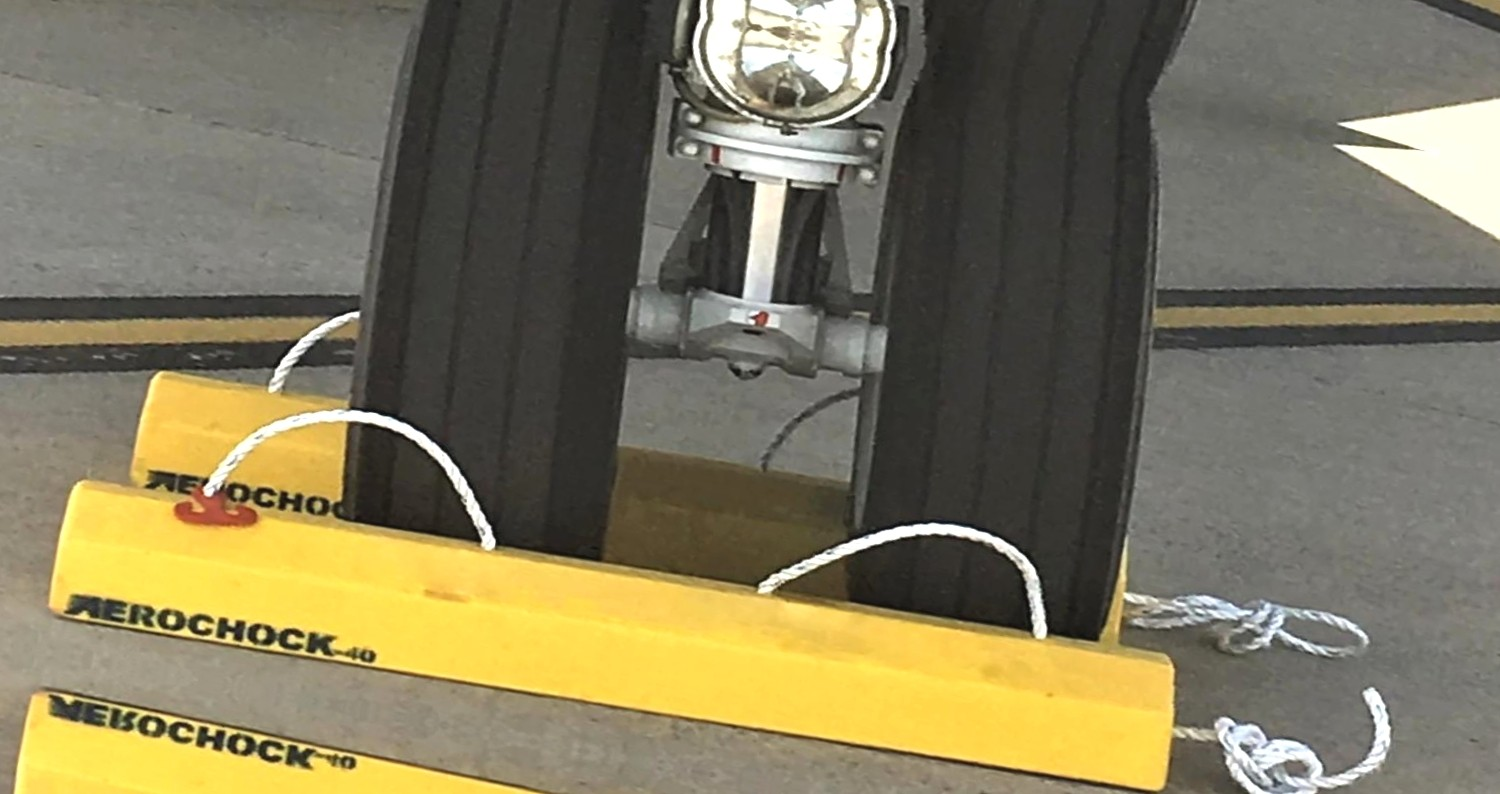chock: (32, 445, 1198, 794), (119, 347, 1162, 672)
wheel: (809, 55, 1200, 649), (312, 0, 686, 569)
